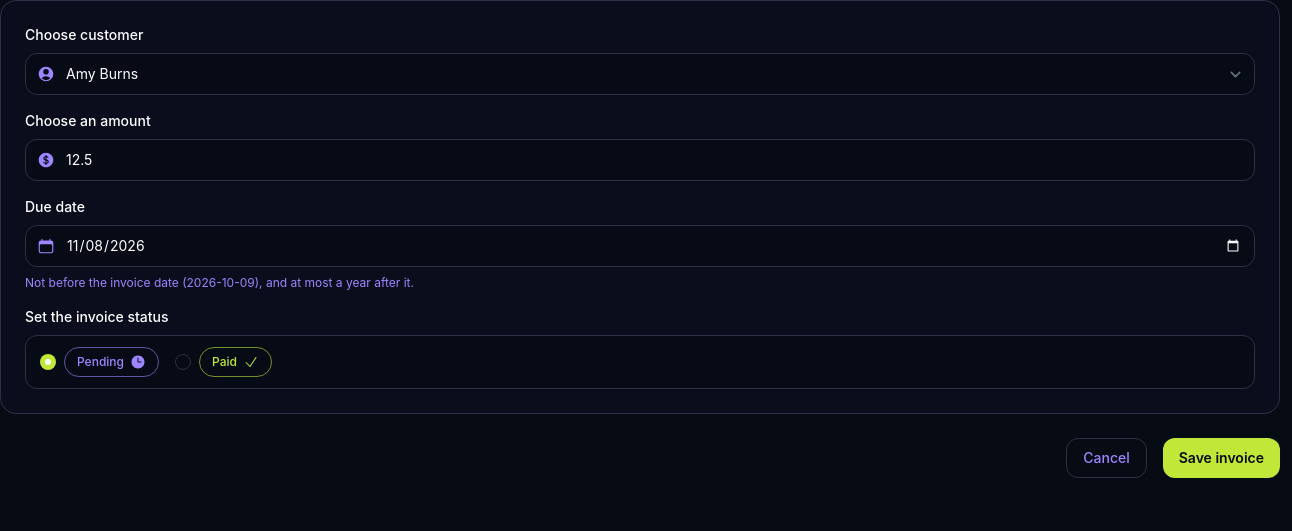
Test: the invoice edit form › says so when the invoice is gone, in a region read out when it changes
Click the button "Save invoice".
click(1221, 458)  # box [1163, 438, 1280, 478]
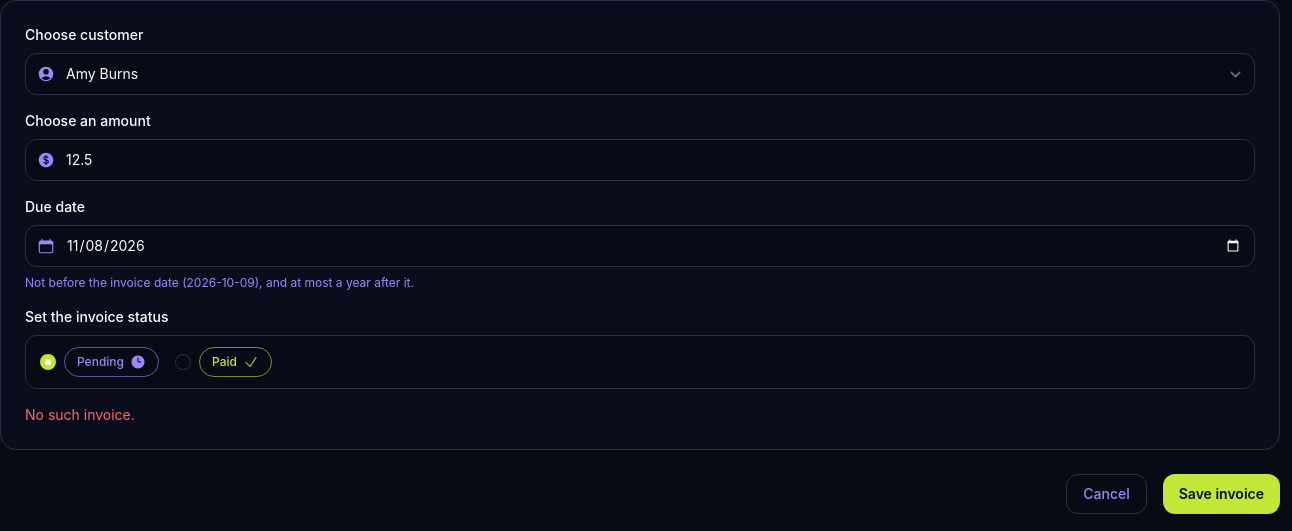
expect the text "No such invoice." is shown: met, box [25, 406, 135, 423]
